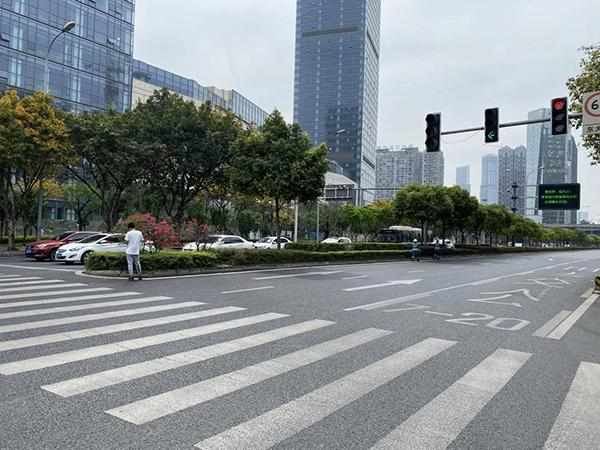car: (49, 232, 127, 264), (23, 233, 79, 260), (205, 235, 252, 247), (255, 235, 292, 248), (319, 235, 352, 245)
person: (121, 224, 145, 280)
sign: (583, 93, 600, 128)
traffic light: (424, 112, 441, 152), (551, 97, 568, 134), (483, 108, 500, 141)
